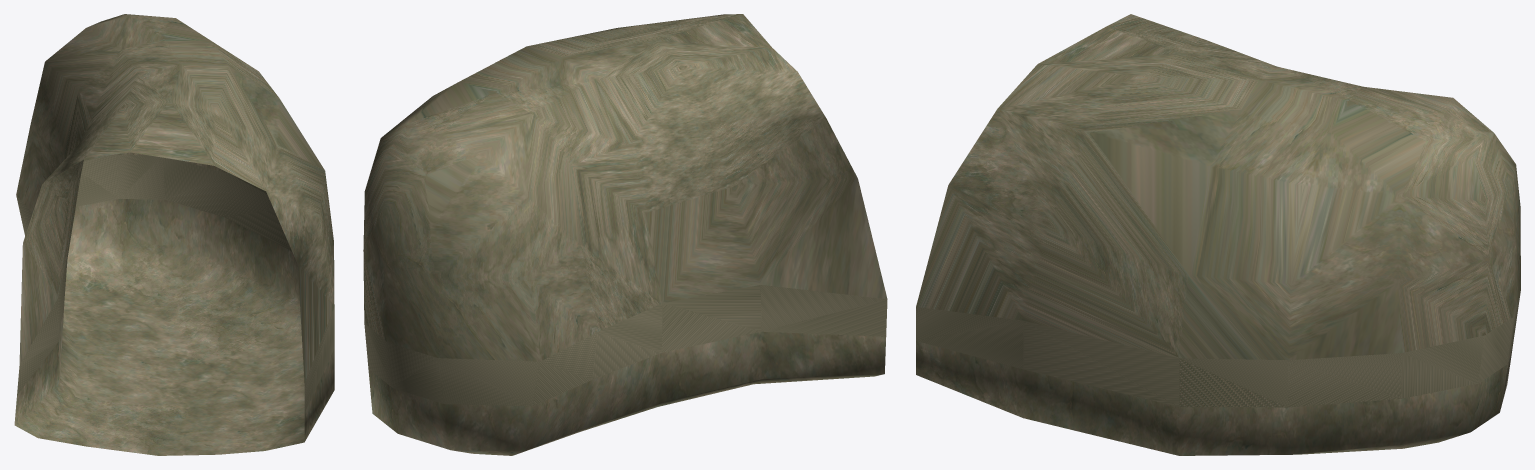
Rendered from OVERHILL_A_01_OBJECT58.fbx.
The picture shows the model from 3 angles, left to right: view 1: azimuth 30°, elevation 25°; view 2: azimuth 150°, elevation 25°; view 3: azimuth 270°, elevation 25°; orthographic projection. The views are drawn at different scales.
Visible parts, largest first — view 1: OVERHILL_A_01_OBJECT58; view 2: OVERHILL_A_01_OBJECT58; view 3: OVERHILL_A_01_OBJECT58.
Boxes of the visible parts, x1,y1,x2,y2 form: OVERHILL_A_01_OBJECT58: (14, 14, 334, 455); OVERHILL_A_01_OBJECT58: (363, 14, 887, 455); OVERHILL_A_01_OBJECT58: (916, 14, 1520, 455).
Size of the model in its own units: 41420 by 32811 by 53831.
1 material, 1 textured.
